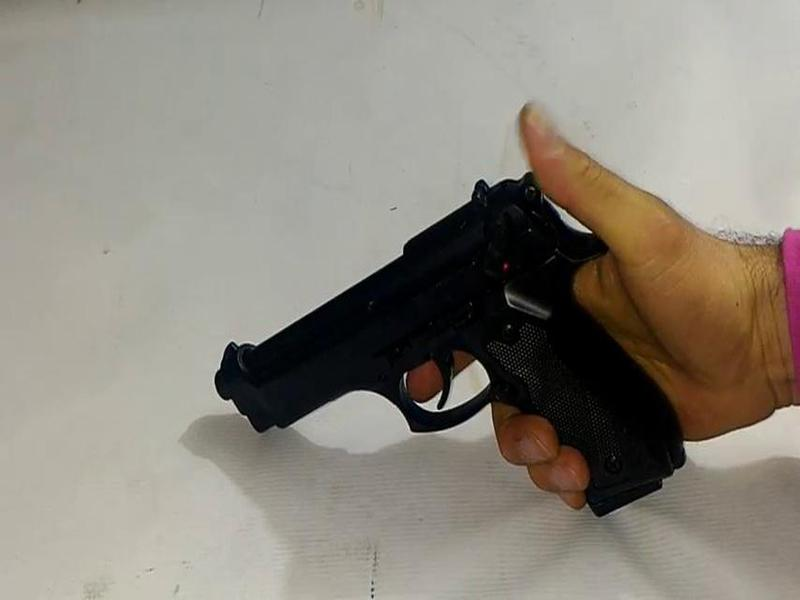Pistola: (191, 149, 714, 525)
